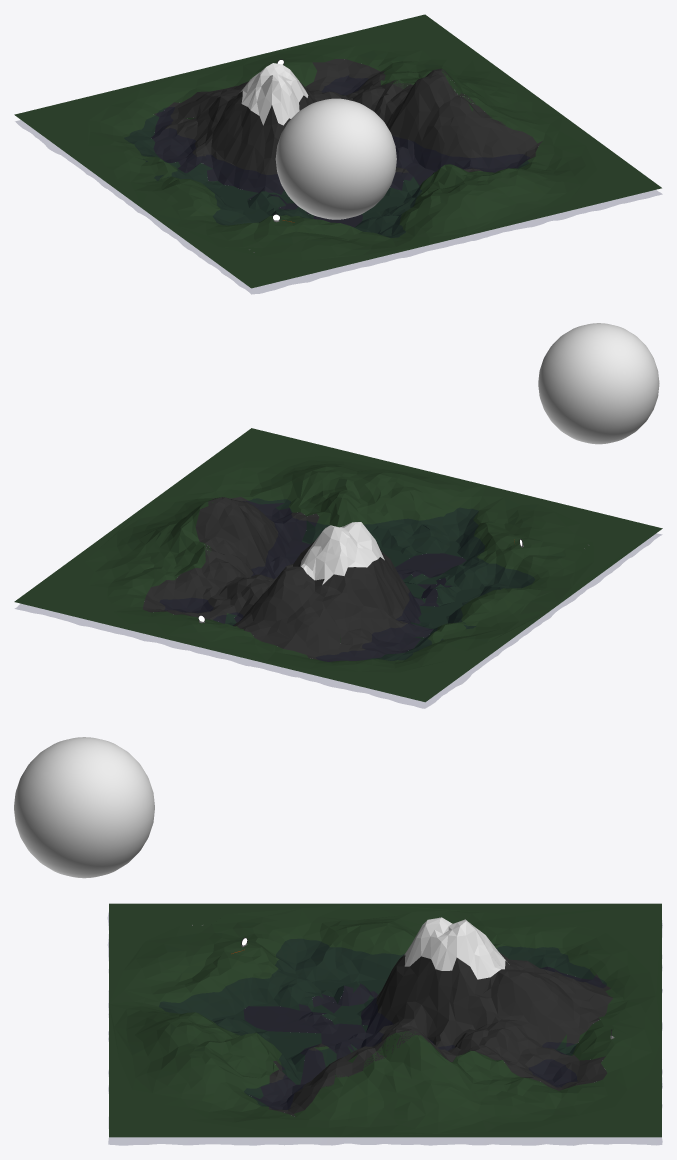
The model's file is forest3.2_noTrees.glb.
3 renders of one model, top to bottom at view 1: azimuth 30°, elevation 25°; view 2: azimuth 150°, elevation 25°; view 3: azimuth 270°, elevation 25°, orthographic. The views are drawn at different scales.
Parts seen in each view (by area): view 1: Landscape.001, Landscape_plane.001, sun; view 2: Landscape.001, Landscape_plane.001, sun; view 3: Landscape.001, Landscape_plane.001, sun.
Boxes of the visible parts, box(x1,y1,x2,y2) form: Landscape.001: box(14, 14, 661, 288); Landscape_plane.001: box(16, 76, 661, 293); sun: box(275, 98, 396, 219); Landscape.001: box(14, 428, 662, 702); Landscape_plane.001: box(15, 498, 661, 708); sun: box(538, 323, 659, 444); Landscape.001: box(109, 903, 661, 1137); Landscape_plane.001: box(108, 913, 662, 1145); sun: box(14, 737, 154, 878).
Size of the model in its own units: 4.04 by 1.82 by 4.71.
